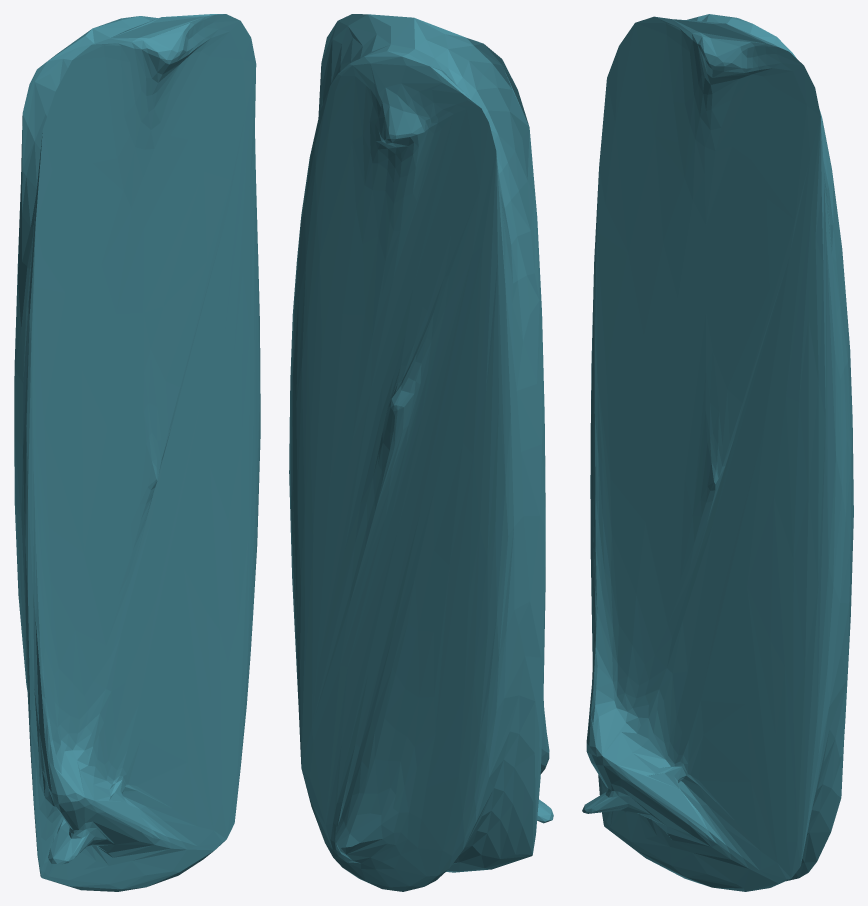
3 views of the same model, side by side, from view 1: azimuth 30°, elevation 25°; view 2: azimuth 150°, elevation 25°; view 3: azimuth 330°, elevation 25° (orthographic). The views are drawn at different scales.
Parts seen in each view (by area): view 1: 230_Cube.945; view 2: 230_Cube.945; view 3: 230_Cube.945.
Part boxes in pixels (bbox=[...]): 230_Cube.945: bbox=[14, 14, 260, 891]; 230_Cube.945: bbox=[289, 14, 553, 891]; 230_Cube.945: bbox=[582, 14, 853, 891].
Bounding box in the file's own units: 3.43 × 11.69 × 1.49.
